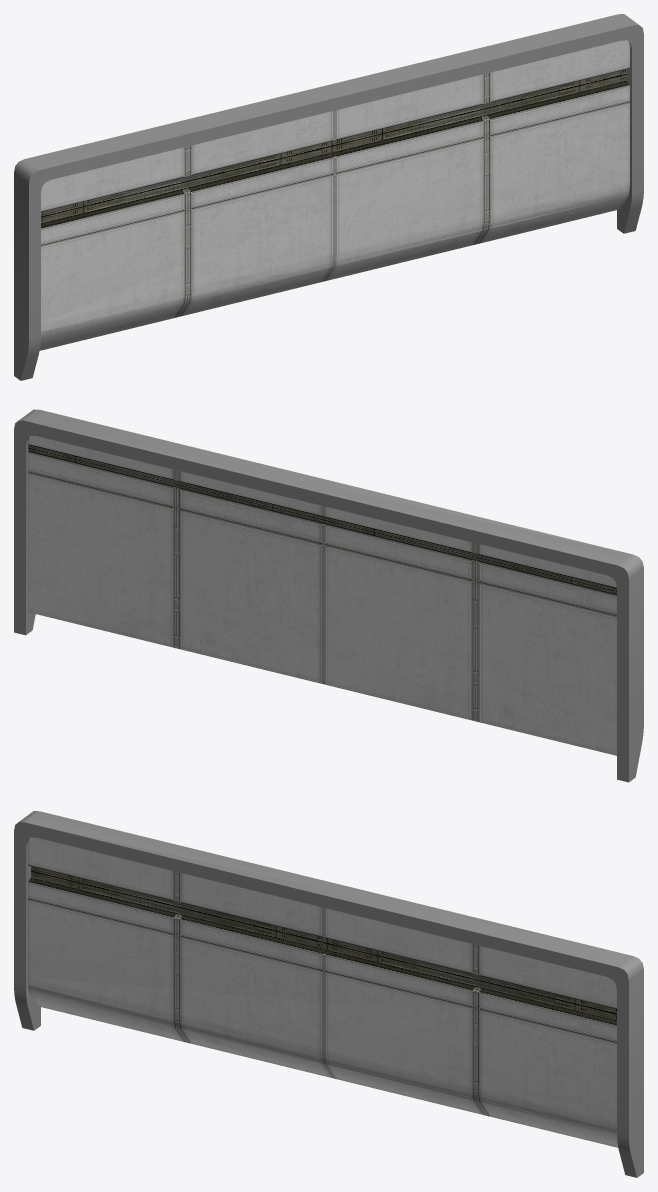
File: Club_Viewblock_01.FBX
3 views of the same model, one above another, from view 1: azimuth 30°, elevation 25°; view 2: azimuth 150°, elevation 25°; view 3: azimuth 330°, elevation 25° (orthographic).
Visible parts, largest first — view 1: Club_Viewblock_01; view 2: Club_Viewblock_01; view 3: Club_Viewblock_01.
Part boxes in pixels (x1=…): Club_Viewblock_01: x1=14, y1=14, x2=643, y2=380; Club_Viewblock_01: x1=14, y1=409, x2=643, y2=782; Club_Viewblock_01: x1=14, y1=811, x2=643, y2=1177.
Bounding box in the file's own units: 7 × 2.33 × 0.2987.
